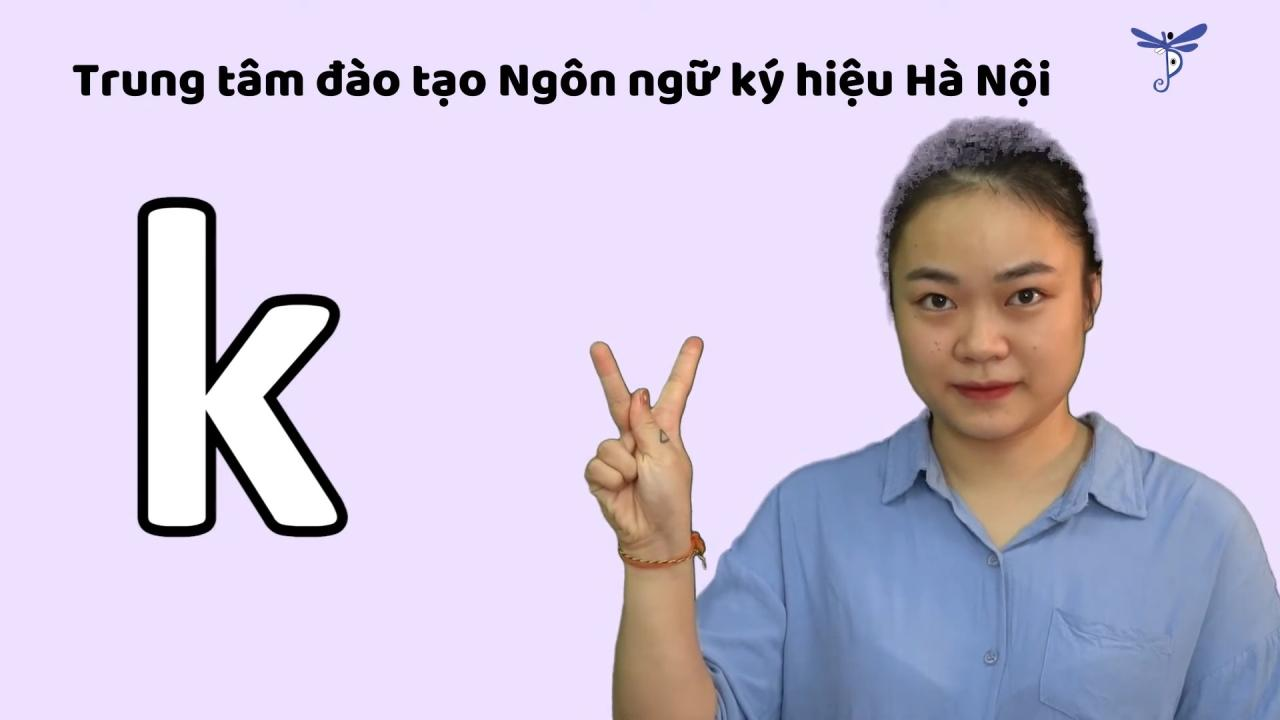K: (561, 322, 726, 590)
